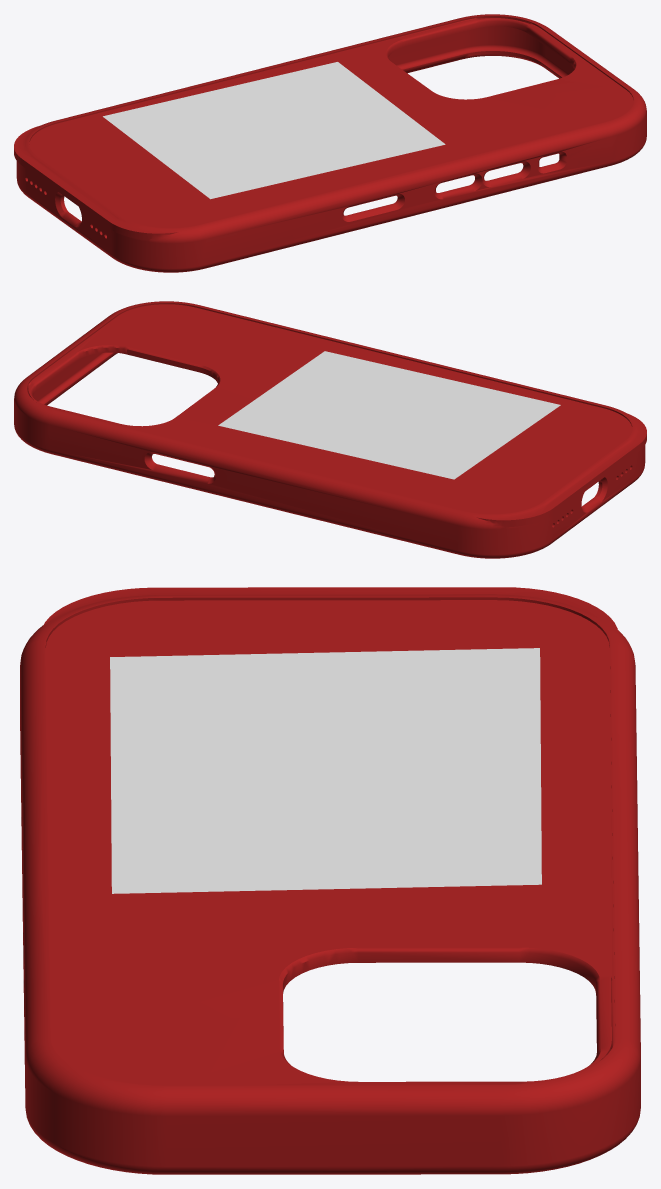
Rendered from phonecase2.glb.
3 views of the same model, one above another, from view 1: azimuth 30°, elevation 25°; view 2: azimuth 150°, elevation 25°; view 3: azimuth 270°, elevation 25° (orthographic). The views are drawn at different scales.
Parts seen in each view (by area): view 1: Object_2, PrintPlane; view 2: Object_2, PrintPlane; view 3: Object_2, PrintPlane.
Part boxes in pixels (x1,y1,x2,y2): Object_2: (14, 14, 646, 272); PrintPlane: (103, 62, 445, 199); Object_2: (14, 301, 646, 558); PrintPlane: (218, 351, 560, 479); Object_2: (20, 587, 640, 1174); PrintPlane: (110, 648, 541, 893).
Size of the model in its own units: 153 by 14.79 by 77.29.
